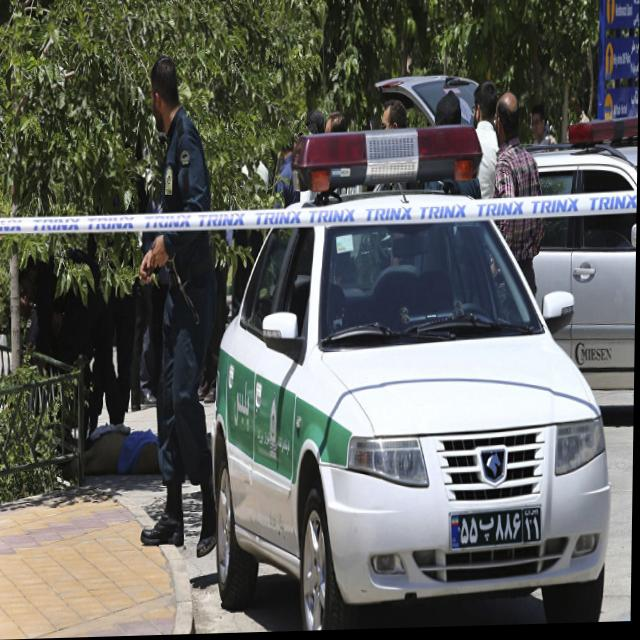licence: (448, 504, 542, 558)
